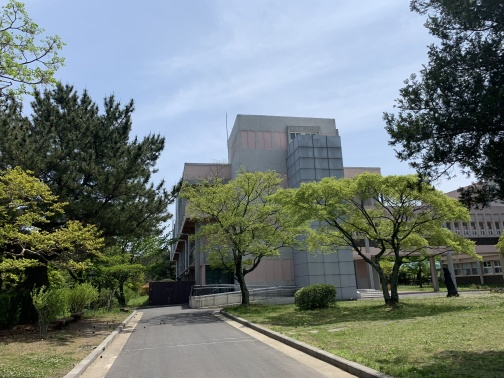College Of Education: (158, 99, 499, 315)
